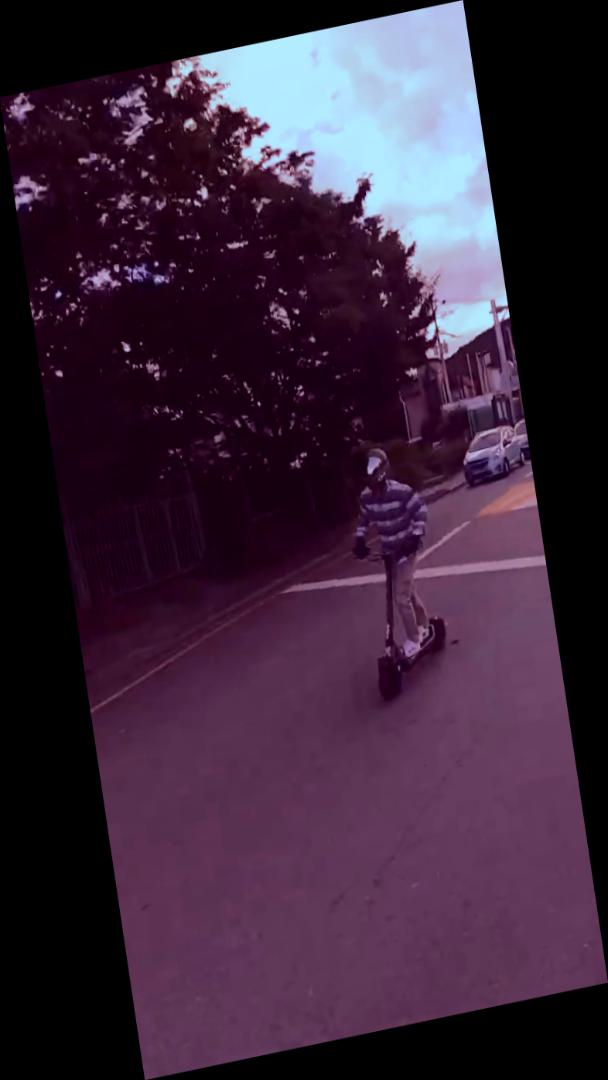helmet: (337, 434, 460, 708)
